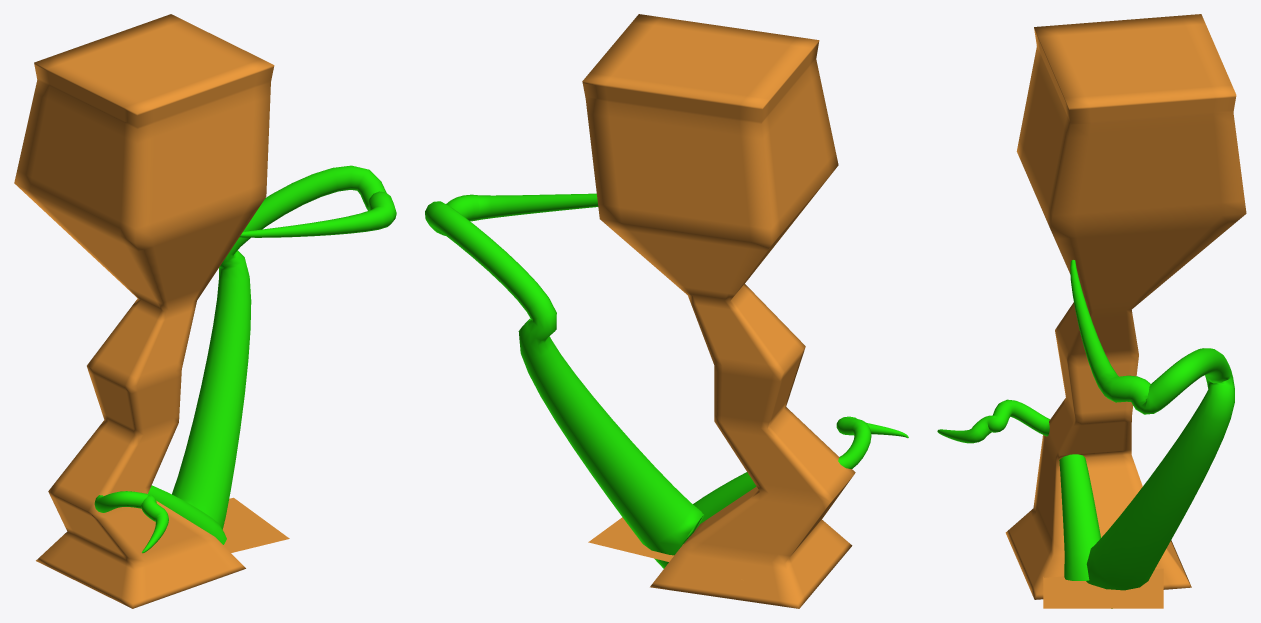
The model's file is Floor_Platforms_004.fbx.
3 renders of one model, left to right at view 1: azimuth 30°, elevation 25°; view 2: azimuth 150°, elevation 25°; view 3: azimuth 270°, elevation 25°, orthographic. The views are drawn at different scales.
Parts seen in each view (by area): view 1: Floor.Platforms.004|cliff.002|Dupli|2, Floor.Platforms.004|BezierCurve.Trunk.001|Dupli|3, Floor.Platforms.004|BezierCurve.Trunk.002|Dupli|1, Floor.Platforms.004; view 2: Floor.Platforms.004|cliff.002|Dupli|2, Floor.Platforms.004|BezierCurve.Trunk.001|Dupli|3, Floor.Platforms.004|BezierCurve.Trunk.002|Dupli|1, Floor.Platforms.004; view 3: Floor.Platforms.004|cliff.002|Dupli|2, Floor.Platforms.004|BezierCurve.Trunk.001|Dupli|3, Floor.Platforms.004|BezierCurve.Trunk.002|Dupli|1, Floor.Platforms.004.
Part boxes in pixels (x1,y1,x2,y2): Floor.Platforms.004|cliff.002|Dupli|2: (14,14,274,608); Floor.Platforms.004|BezierCurve.Trunk.001|Dupli|3: (172,165,396,529); Floor.Platforms.004|BezierCurve.Trunk.002|Dupli|1: (94,485,226,553); Floor.Platforms.004: (222,497,289,553); Floor.Platforms.004|cliff.002|Dupli|2: (582,14,855,608); Floor.Platforms.004|BezierCurve.Trunk.001|Dupli|3: (425,193,703,568); Floor.Platforms.004|BezierCurve.Trunk.002|Dupli|1: (693,416,908,528); Floor.Platforms.004: (588,517,741,579); Floor.Platforms.004|cliff.002|Dupli|2: (1005,14,1246,599); Floor.Platforms.004|BezierCurve.Trunk.001|Dupli|3: (1070,260,1234,608); Floor.Platforms.004|BezierCurve.Trunk.002|Dupli|1: (937,399,1100,580); Floor.Platforms.004: (1043,568,1163,608).
Size of the model in its own units: 1468 by 1937 by 1028.
